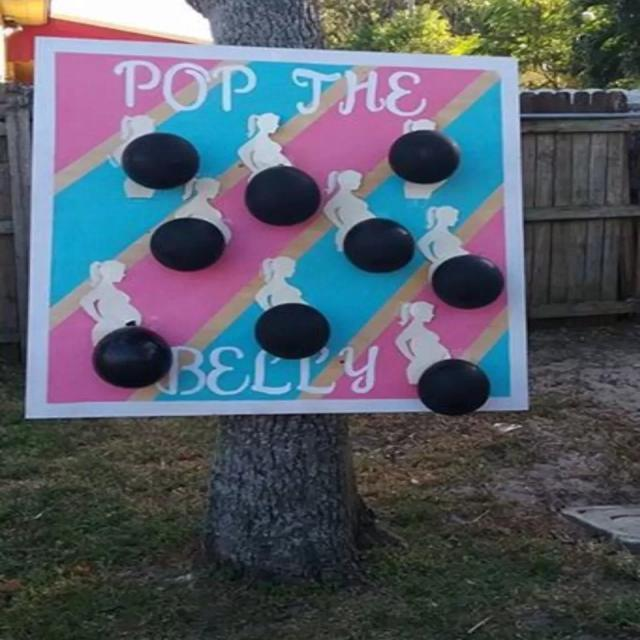balloon: (94, 325, 174, 390), (125, 131, 204, 191), (246, 165, 322, 223), (148, 217, 228, 272), (418, 359, 491, 418), (436, 253, 507, 313), (258, 302, 332, 359), (346, 218, 418, 274), (392, 130, 464, 184)
